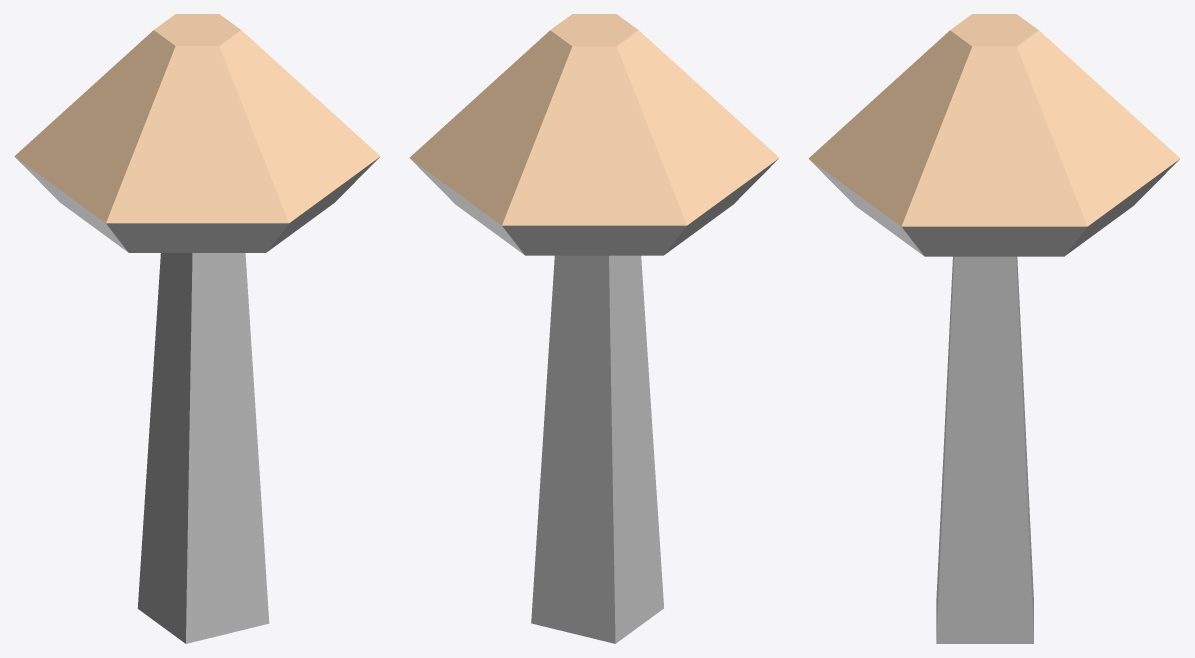
Rendered from mushroom_tanTall.gltf.
The picture shows the model from 3 angles, left to right: view 1: azimuth 30°, elevation 25°; view 2: azimuth 150°, elevation 25°; view 3: azimuth 270°, elevation 25°; orthographic projection.
Parts seen in each view (by area): view 1: mushroom_tanTall; view 2: mushroom_tanTall; view 3: mushroom_tanTall.
Part boxes in pixels (x1,y1,x2,y2): mushroom_tanTall: (14, 14, 380, 643); mushroom_tanTall: (409, 14, 779, 643); mushroom_tanTall: (808, 14, 1180, 643).
Bounding box in the file's own units: 0.1235 × 0.2505 × 0.1426.
